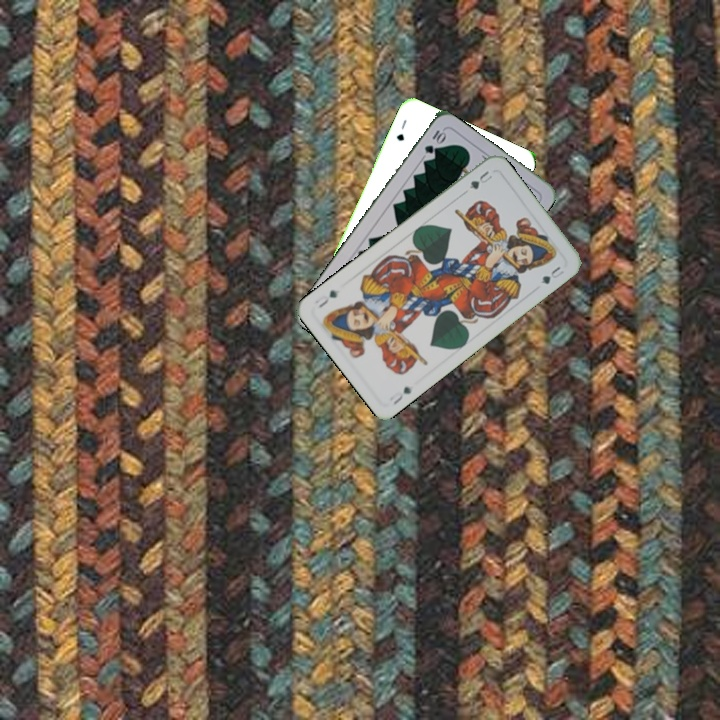G10: (420, 126, 448, 156)
GU: (465, 166, 496, 192), (387, 382, 415, 407), (392, 115, 409, 144)
